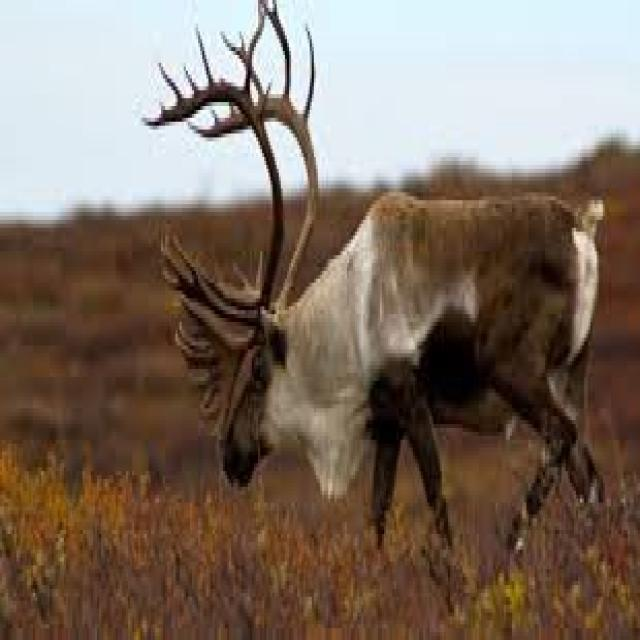Reindeer: (140, 2, 612, 554)
